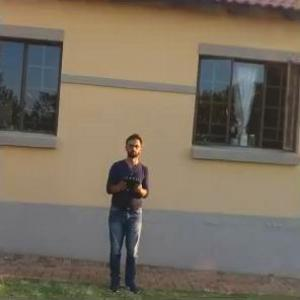follow: (98, 130, 151, 295)
